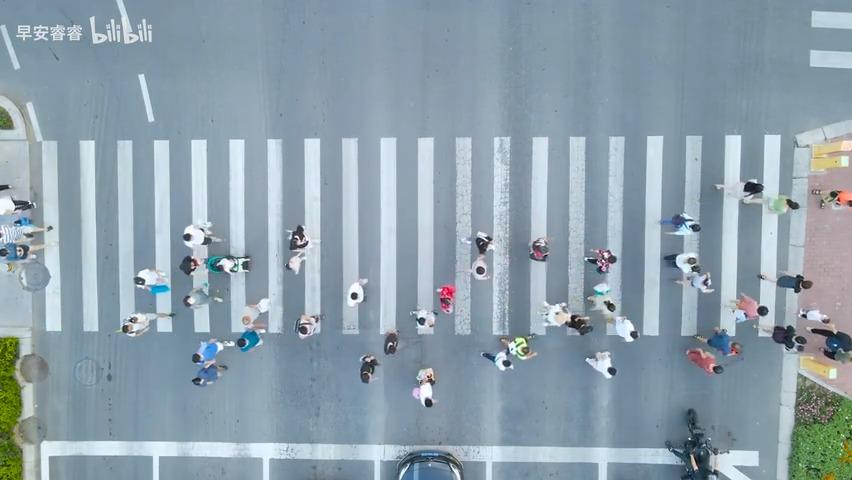Civilian: (713, 179, 799, 215), (805, 323, 851, 363), (179, 254, 250, 276), (117, 311, 175, 337), (693, 326, 741, 356), (191, 337, 235, 368), (724, 292, 768, 323), (760, 324, 807, 352), (756, 271, 813, 293), (742, 193, 799, 215), (713, 179, 764, 203), (0, 220, 50, 244), (684, 346, 723, 375), (236, 315, 266, 352), (499, 332, 538, 360), (182, 221, 224, 247), (663, 251, 699, 281), (413, 367, 439, 407), (0, 239, 46, 261), (604, 314, 639, 342), (182, 286, 223, 309), (191, 361, 227, 386), (586, 282, 616, 312), (659, 212, 701, 233), (133, 267, 168, 292), (585, 350, 616, 378), (583, 247, 616, 273), (811, 188, 851, 208), (480, 349, 514, 371), (293, 313, 320, 339), (359, 353, 381, 383), (285, 224, 309, 250), (797, 306, 830, 324), (409, 307, 437, 328), (347, 277, 367, 306), (284, 250, 307, 275), (436, 284, 455, 314), (474, 230, 495, 255), (528, 237, 549, 261), (383, 329, 399, 354)
